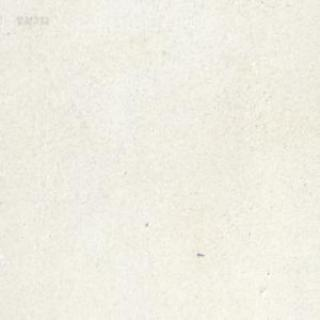Nailtrack_idkeyframe: (196, 251, 203, 256)
